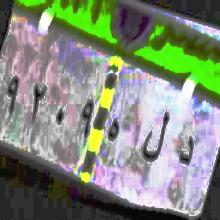0: (52, 96, 66, 137)
2: (31, 77, 46, 127)
9: (77, 87, 93, 143), (6, 76, 21, 126)
daal: (176, 126, 194, 176)
haa: (106, 112, 121, 150)
laam: (140, 95, 169, 173)
